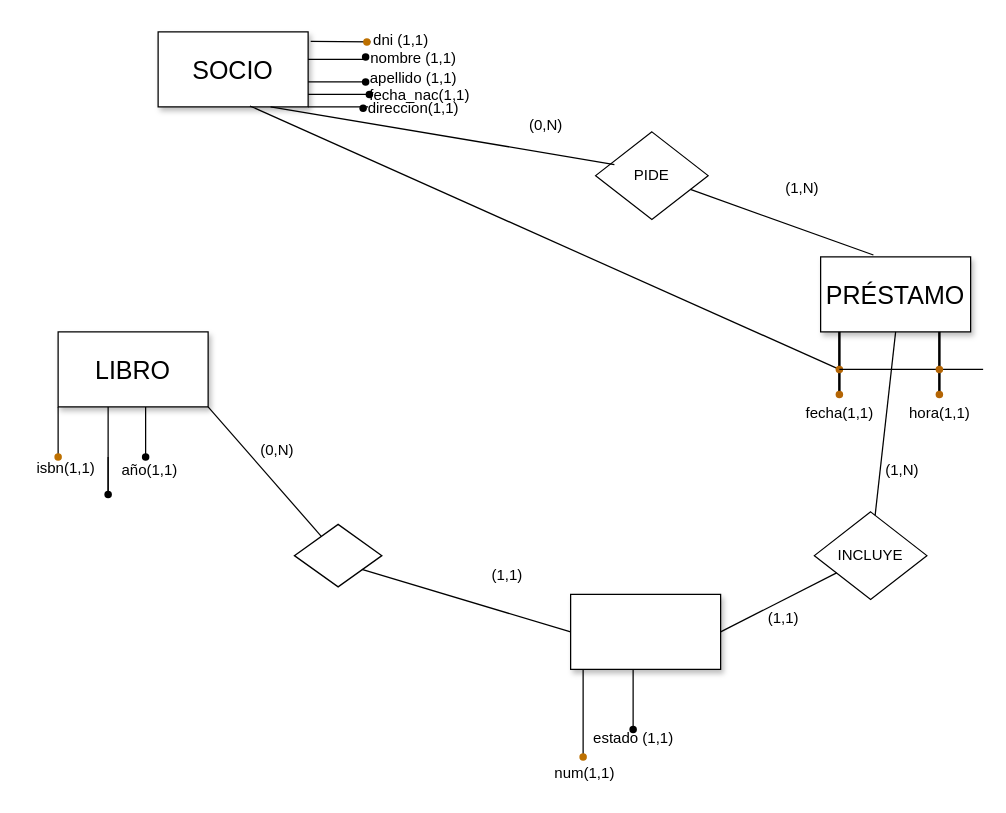
Image size: 1006x813. Some labels were removed from this diagram. Each missing label, with the centre of its shape:
COPIA DE LIBRO: (646,633)
género(1,1): (107,494)
TIENE: (337,555)
